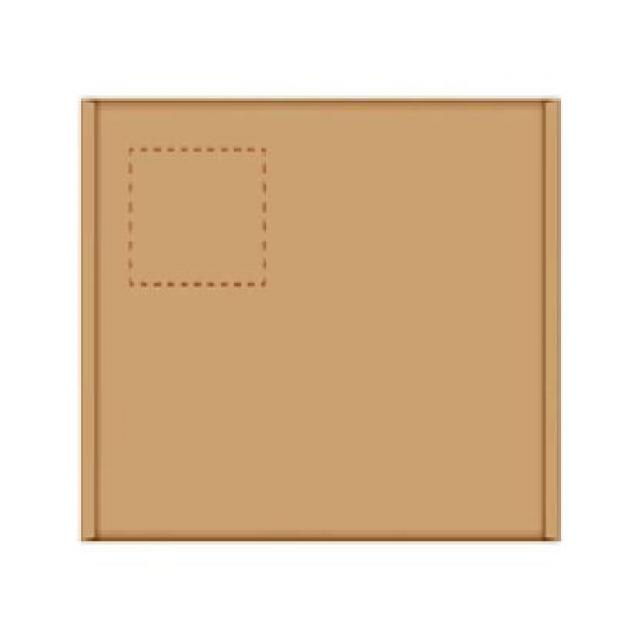normal: (72, 82, 578, 549)
